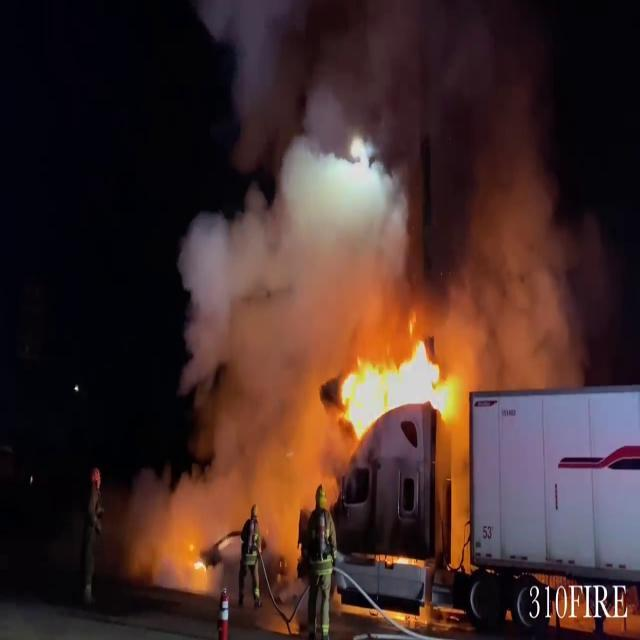Fire: (331, 323, 461, 441)
Smoke: (171, 153, 435, 515), (432, 6, 608, 383), (218, 0, 456, 186)
